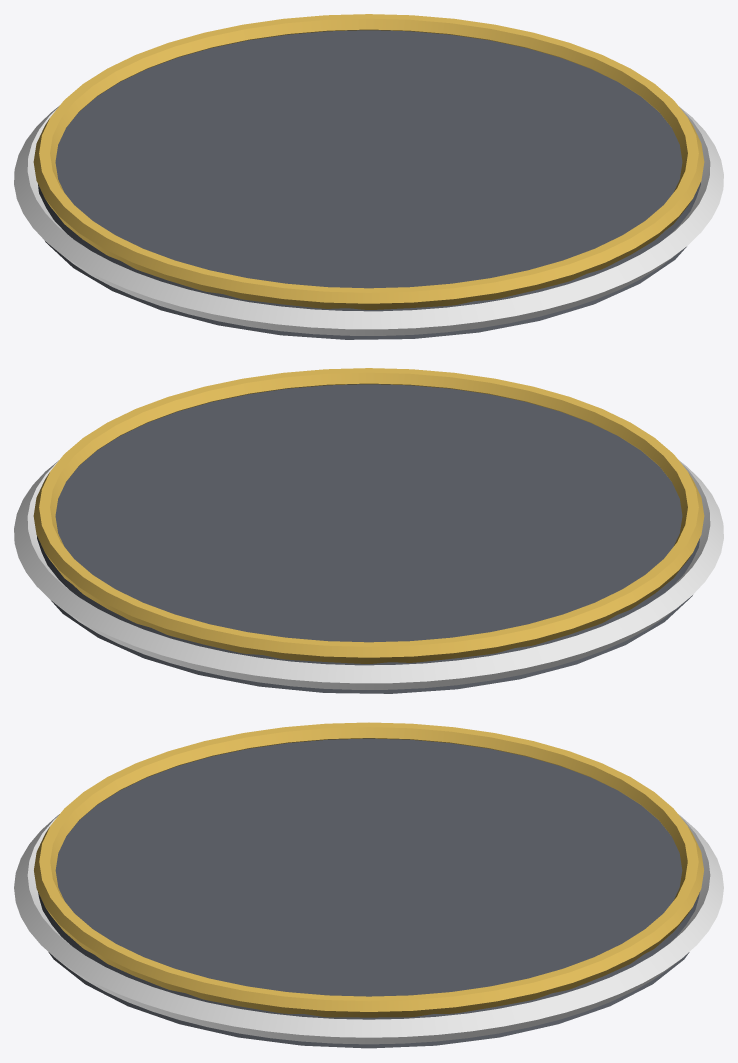
The picture shows the model from 3 angles, top to bottom: view 1: azimuth 30°, elevation 25°; view 2: azimuth 150°, elevation 25°; view 3: azimuth 270°, elevation 25°; orthographic projection.
Visible parts, largest first — view 1: base_s3; view 2: base_s3; view 3: base_s3.
Part boxes in pixels (x1,y1,x2,y2): base_s3: [14, 14, 723, 339]; base_s3: [14, 368, 723, 693]; base_s3: [14, 722, 723, 1048].
Bounding box in the file's own units: 1.56 × 0.1028 × 1.56.
Materials: 2 (1 with a texture image).
